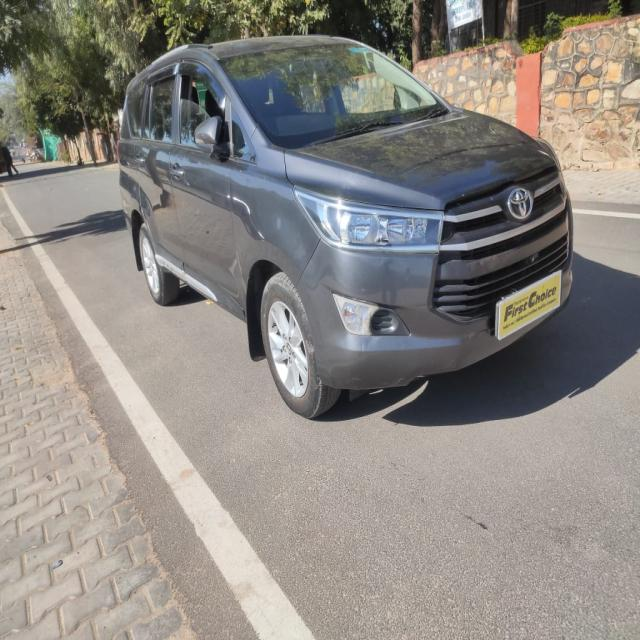light_vehicle: (116, 33, 575, 420)
